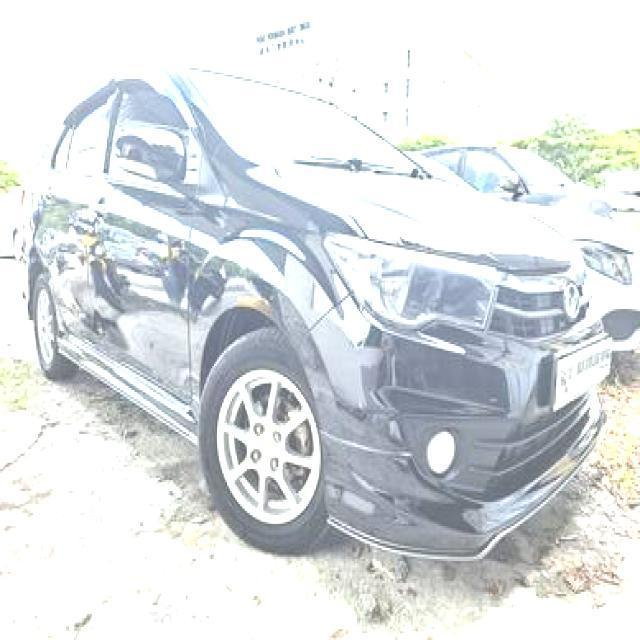PeroduaBezza: (19, 63, 626, 560)
